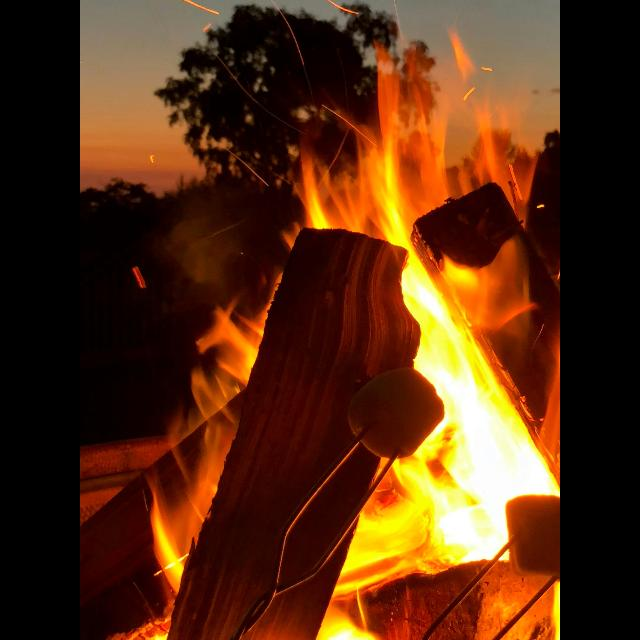fire: (338, 262, 552, 595), (415, 182, 560, 479), (192, 310, 265, 415)
